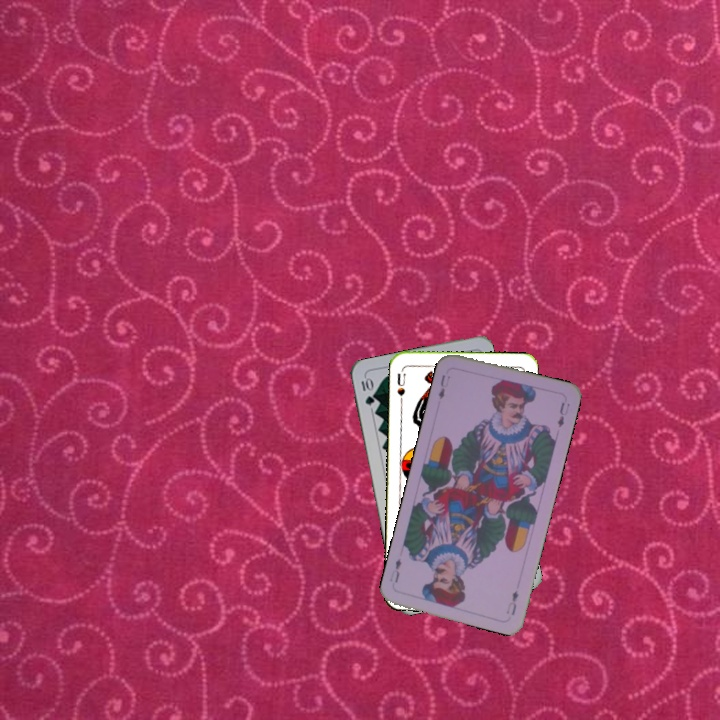EU: (502, 586, 521, 618), (434, 371, 452, 402)
G10: (357, 374, 377, 408)
SU: (393, 369, 408, 406)
